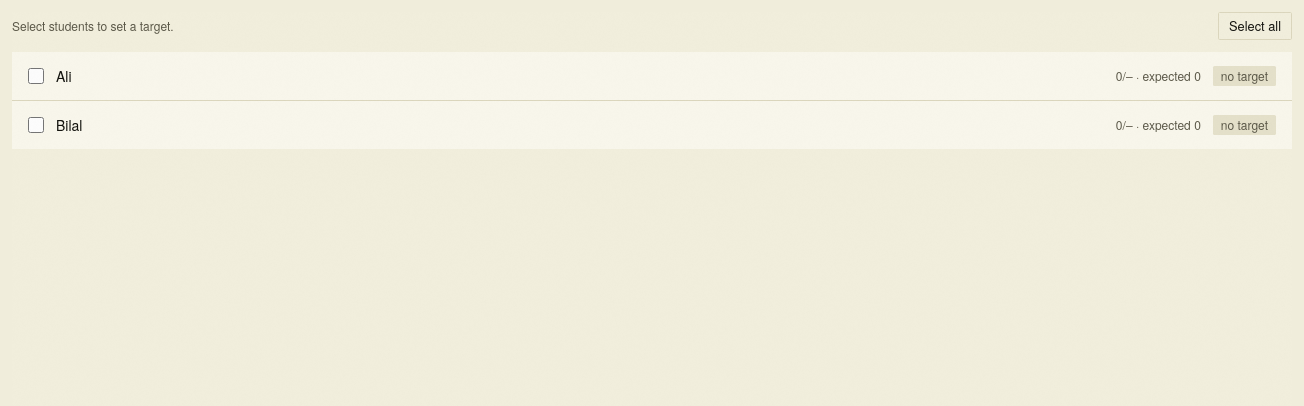
Test: HifzRegister — selection › multi-select hides the starts-at picker — a start is one student's fact
Click the checkbox named "Select Ali". click: (36, 76)
box: [28, 68, 44, 84]
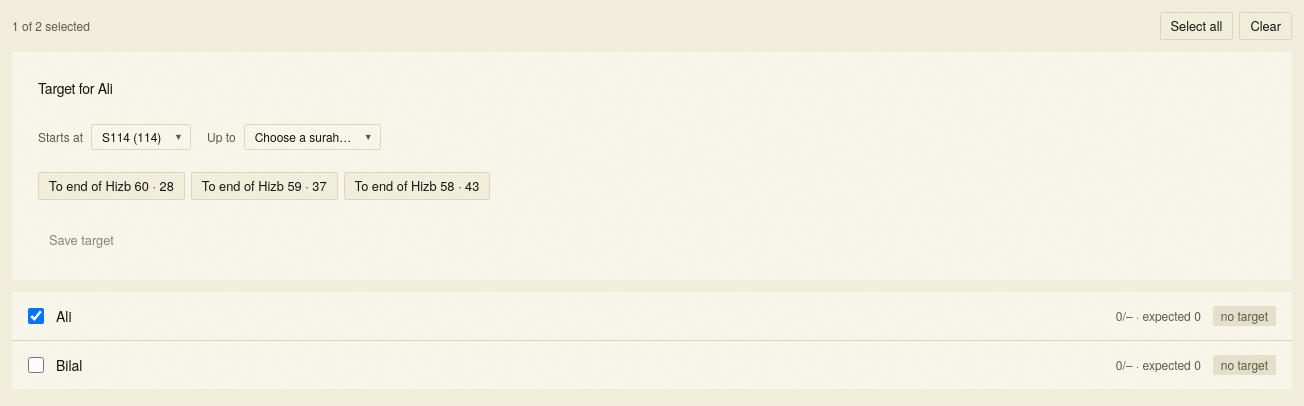
Result: the dropdown labelled "Starts at" is shown at [91, 124, 191, 150]
Click the checkbox named "Select Bilal". click: (36, 365)
box: [28, 357, 44, 373]
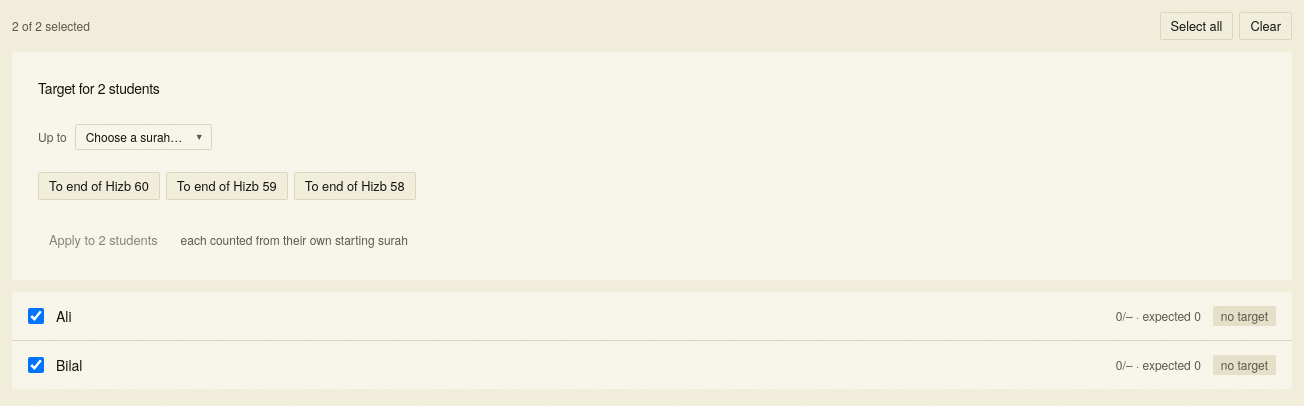
Result: the heading "Target for 2 students" is shown at [38, 78, 160, 98]
Result: the label labelled "Starts at" is gone
